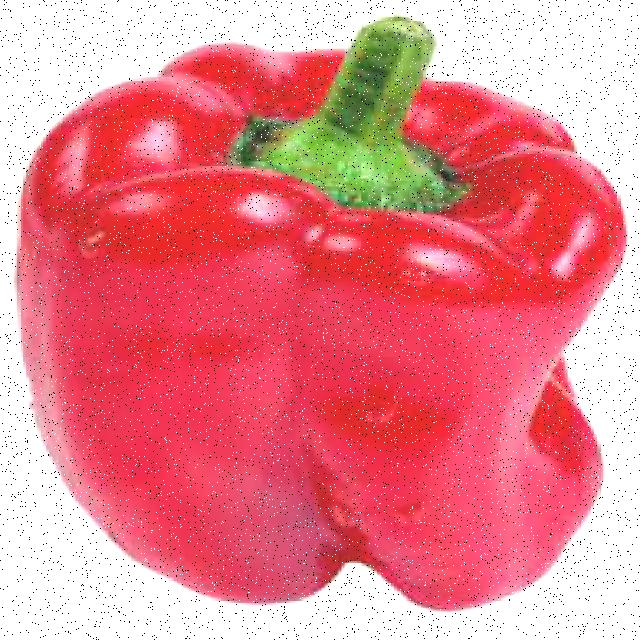Bell Pepper: (6, 12, 637, 638)
